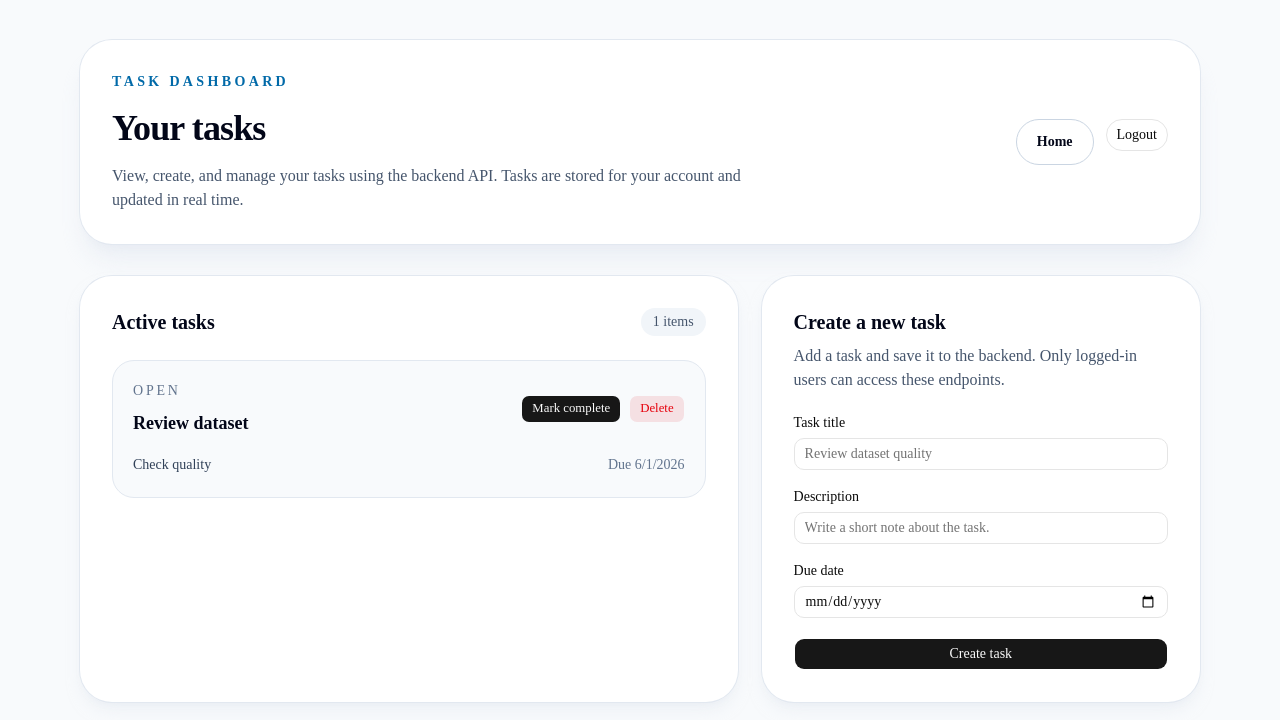
Test: TasksPage › toggles task completion when the button is clicked
Click the button "Mark complete".
click(571, 409)  # box x1=521 y1=395 x2=621 y2=423
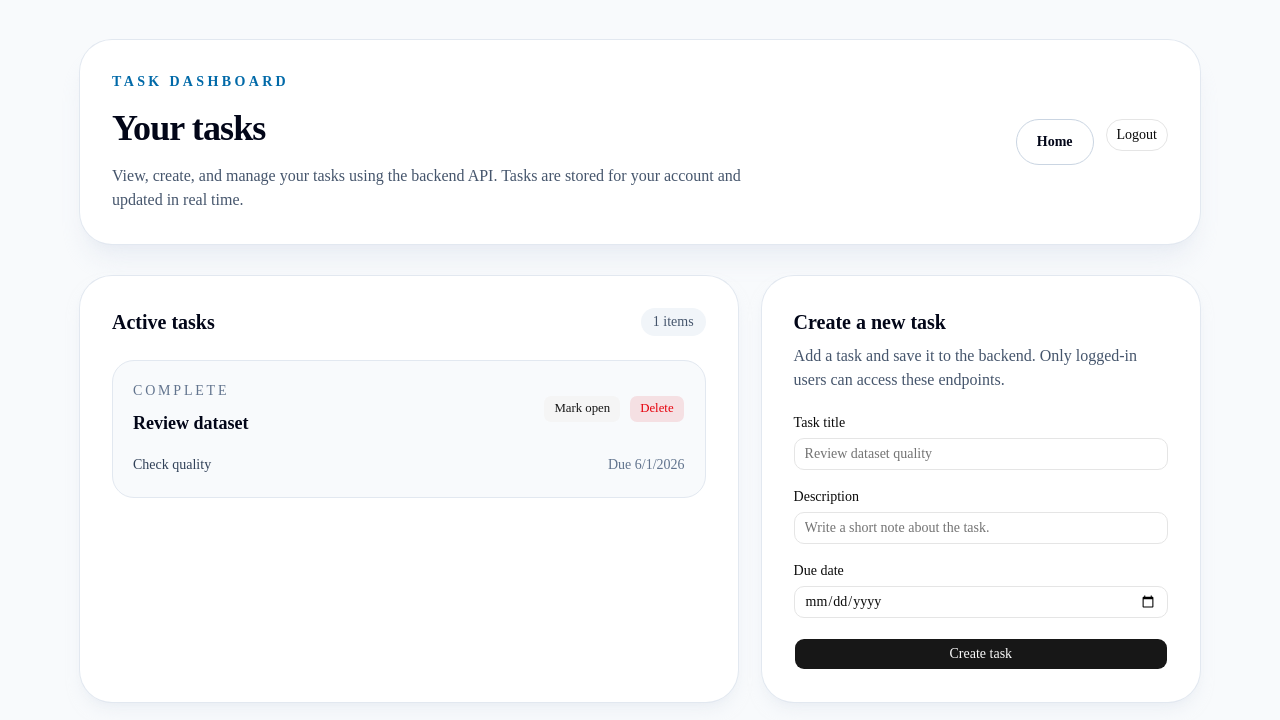
Expected: the text "Mark open" is shown, x1=543 y1=395 x2=621 y2=423
